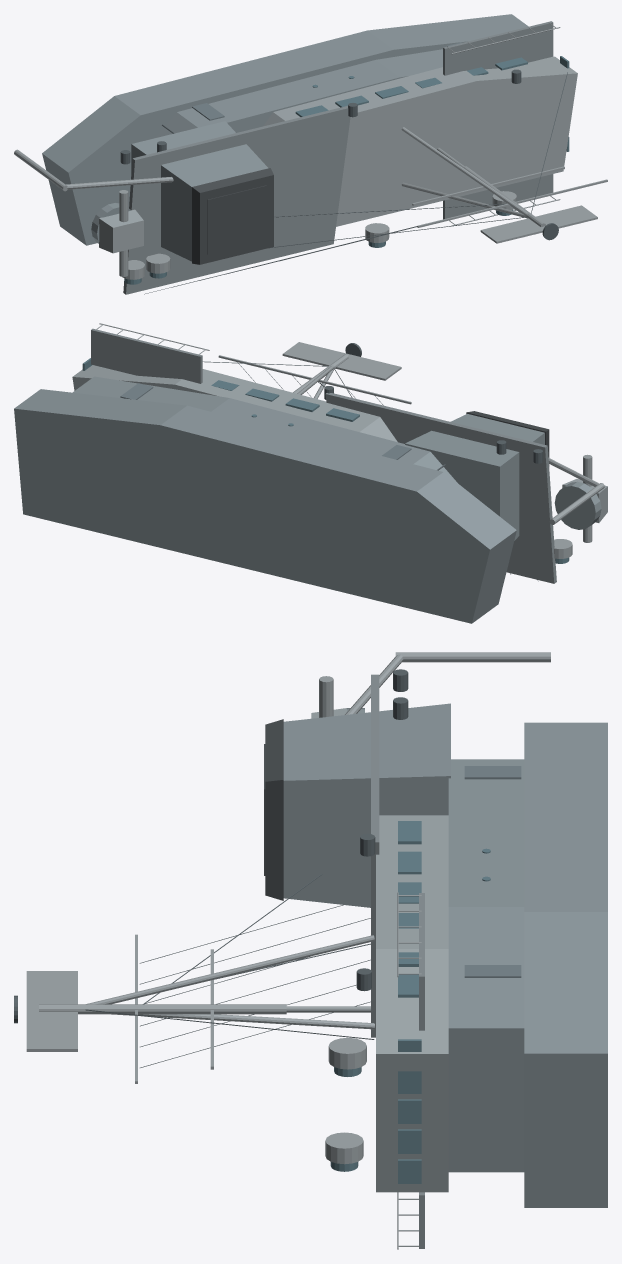
File: CV6_Island.glb
3 renders of one model, top to bottom at view 1: azimuth 30°, elevation 25°; view 2: azimuth 150°, elevation 25°; view 3: azimuth 270°, elevation 25°, orthographic. The views are drawn at different scales.
Visible parts, largest first — view 1: CV6_island_hazegray, CV6_island_hazegray_light, CV6_island_deck_edge, CV6_island_steel, CV6_island_black, CV6_island_glass, CV6_island_darksteel, CV6_island_detail_steel, CV6_island_detail_darksteel; view 2: CV6_island_hazegray, CV6_island_deck_edge, CV6_island_hazegray_light, CV6_island_steel, CV6_island_glass, CV6_island_darksteel, CV6_island_detail_hazegray_dark, CV6_island_black; view 3: CV6_island_hazegray, CV6_island_hazegray_light, CV6_island_steel, CV6_island_glass, CV6_island_deck_edge, CV6_island_black, CV6_island_darksteel, CV6_island_detail_hazegray_dark, CV6_island_detail_darksteel.
Boxes of the visible parts, x1,y1,x2,y2 form: CV6_island_hazegray: [42, 14, 528, 261]; CV6_island_hazegray_light: [99, 56, 577, 253]; CV6_island_deck_edge: [123, 21, 553, 294]; CV6_island_steel: [14, 127, 607, 279]; CV6_island_black: [192, 168, 273, 264]; CV6_island_glass: [124, 56, 569, 284]; CV6_island_darksteel: [120, 69, 567, 248]; CV6_island_detail_steel: [447, 22, 560, 225]; CV6_island_detail_darksteel: [144, 226, 417, 294]; CV6_island_hazegray: [14, 376, 601, 623]; CV6_island_deck_edge: [91, 328, 556, 583]; CV6_island_hazegray_light: [72, 365, 607, 522]; CV6_island_steel: [218, 342, 604, 558]; CV6_island_glass: [82, 358, 569, 563]; CV6_island_darksteel: [203, 343, 542, 470]; CV6_island_detail_hazegray_dark: [120, 383, 411, 459]; CV6_island_black: [466, 411, 549, 466]; CV6_island_hazegray: [283, 703, 607, 1207]; CV6_island_hazegray_light: [311, 708, 448, 1192]; CV6_island_steel: [26, 652, 550, 1164]; CV6_island_glass: [330, 821, 421, 1183]; CV6_island_deck_edge: [371, 674, 424, 1248]; CV6_island_black: [264, 719, 283, 900]; CV6_island_darksteel: [14, 669, 408, 1039]; CV6_island_detail_hazegray_dark: [464, 766, 521, 977]; CV6_island_detail_darksteel: [139, 905, 370, 1067].
Bounding box in the file's own units: 28.55 × 9.14 × 17.99.
